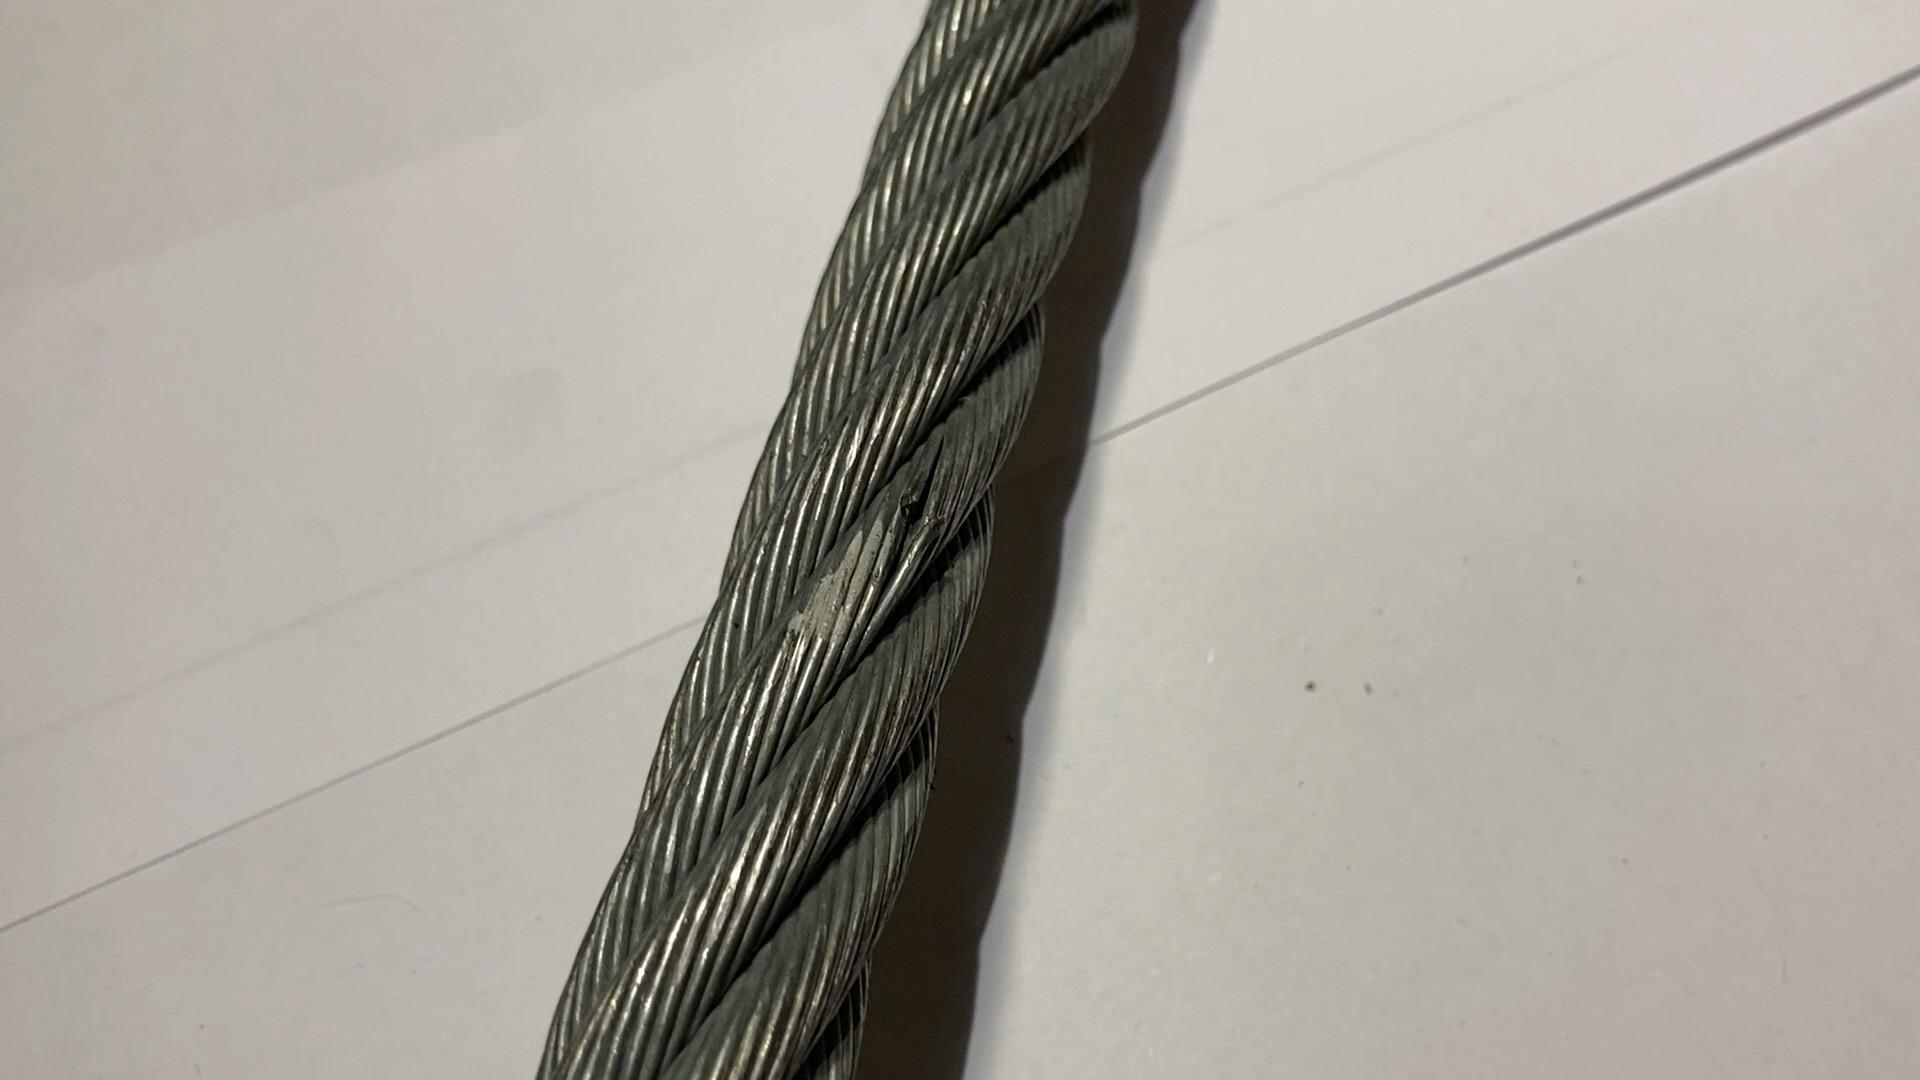break: (881, 480, 944, 570)
